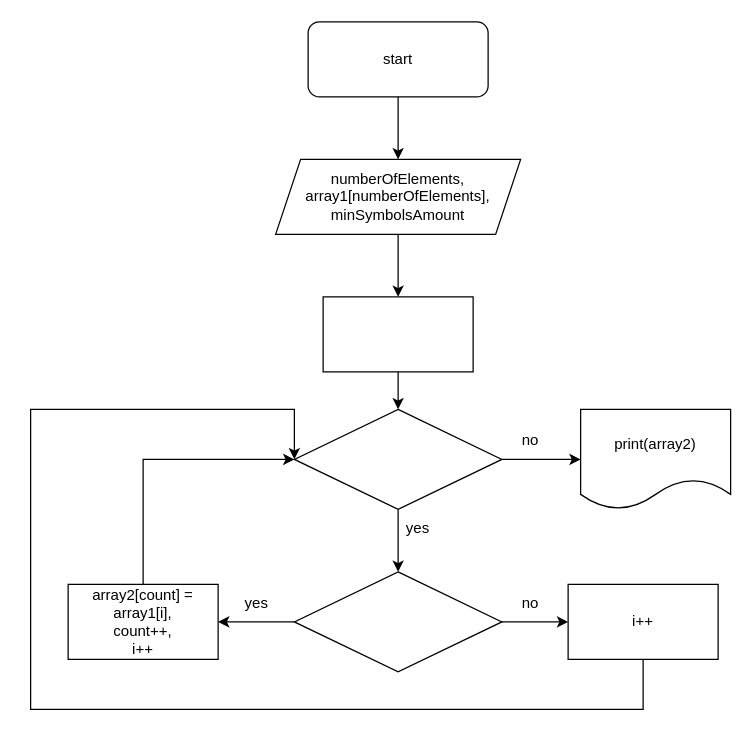
This 753x741 diagram has some shape labels left out. The shapes that lost their labels are listed below. From the top down, each one's centre as x and y in pixels, then its label:
[397,334]: i = 0 count = 0
[397,458]: i < numberOfElements?
[397,621]: array1[i].Length <= minSymbolsAmount?
